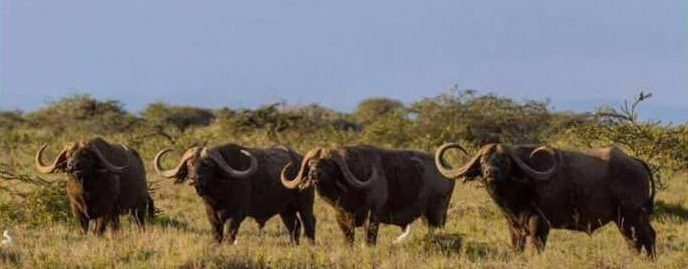buffalo: (436, 140, 661, 262), (279, 143, 456, 245), (152, 142, 320, 247), (33, 135, 149, 235)
